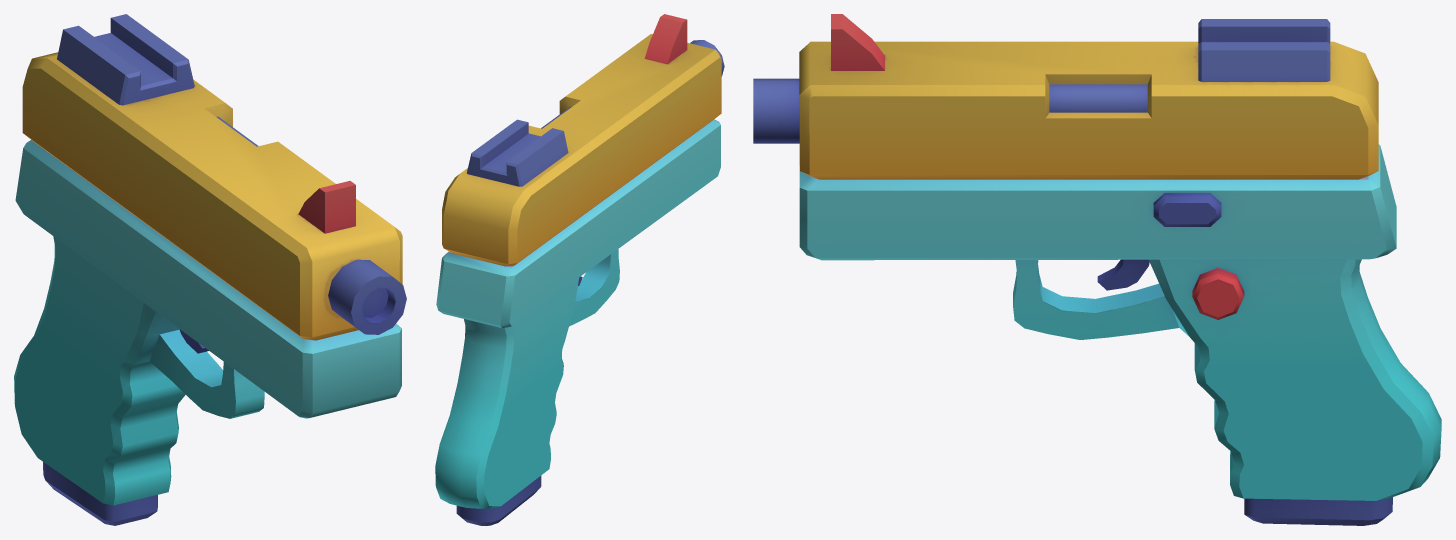
Rendered from LowPoly_GlockPistolGun.fbx.
The picture shows the model from 3 angles, left to right: view 1: azimuth 30°, elevation 25°; view 2: azimuth 150°, elevation 25°; view 3: azimuth 270°, elevation 25°; orthographic projection. The views are drawn at different scales.
Parts seen in each view (by area): view 1: Glock; view 2: Glock; view 3: Glock.
Boxes of the visible parts, <box> form: Glock: <box>14,14,406,525</box>; Glock: <box>435,14,724,525</box>; Glock: <box>753,14,1441,525</box>.
Bounding box in the file's own units: 24.57 × 103 × 131.
